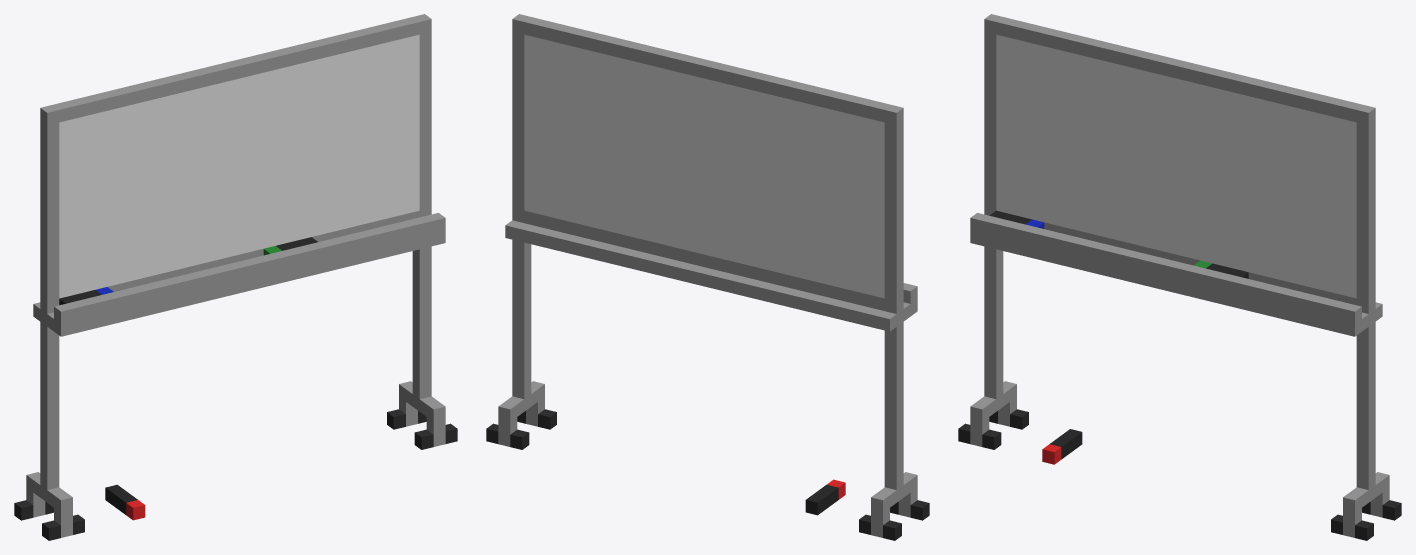
Rendered from Deck.obj.
3 views of the same model, side by side, from view 1: azimuth 30°, elevation 25°; view 2: azimuth 150°, elevation 25°; view 3: azimuth 330°, elevation 25° (orthographic).
Size of the model in its own units: 3.4 by 3.3 by 0.5.
1 material, 1 textured.
